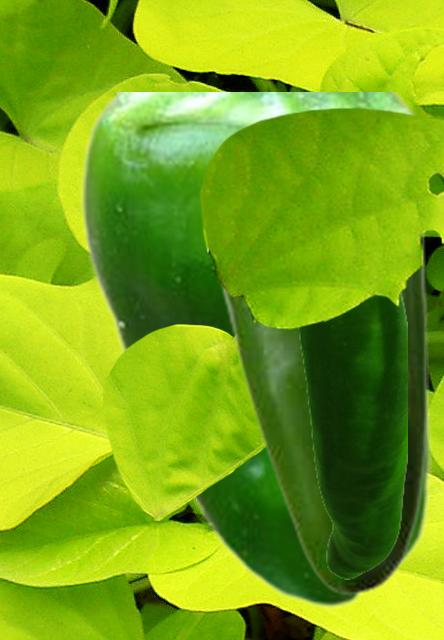green_chili: (78, 92, 430, 608), (221, 234, 427, 595), (296, 291, 406, 578)
